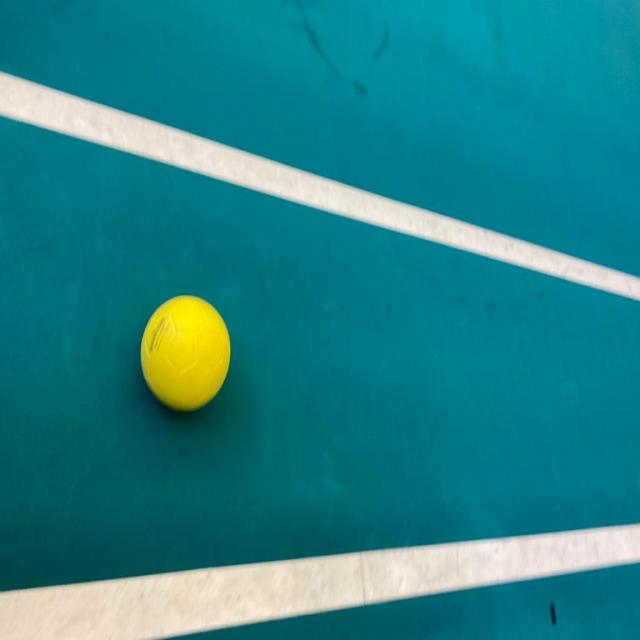ball: (126, 279, 237, 426)
